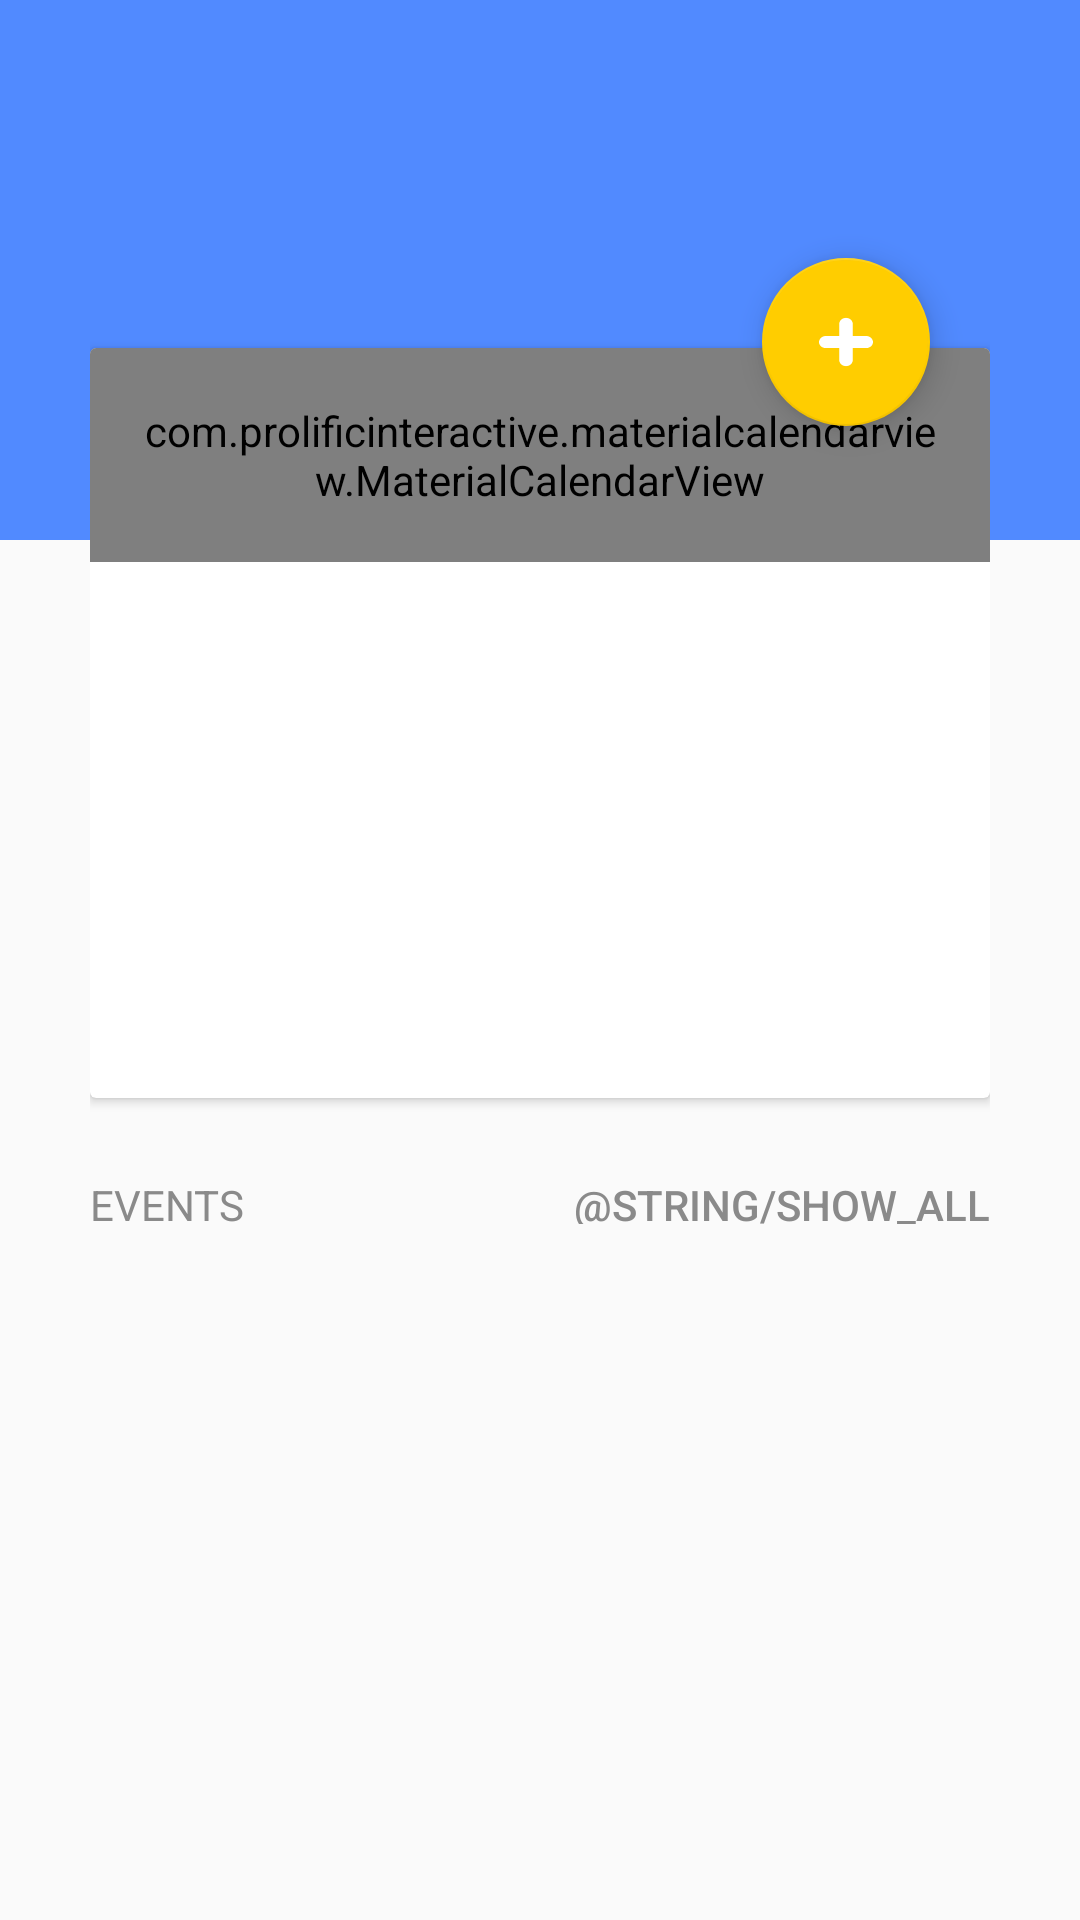

Screen size 1080px×1920px. Icon name, then its center in pixels as (x,y):
plus: (846,342)
